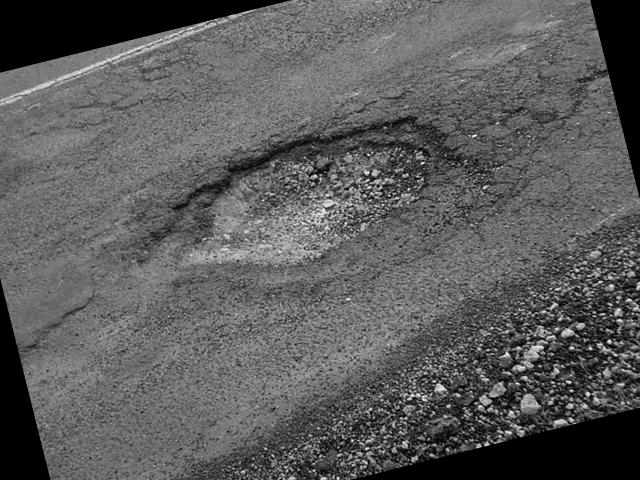Pothole: (111, 34, 483, 321)
